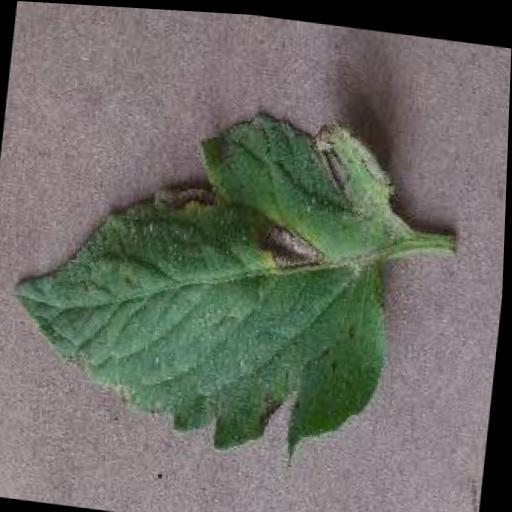Early Blight: (4, 79, 416, 463)
